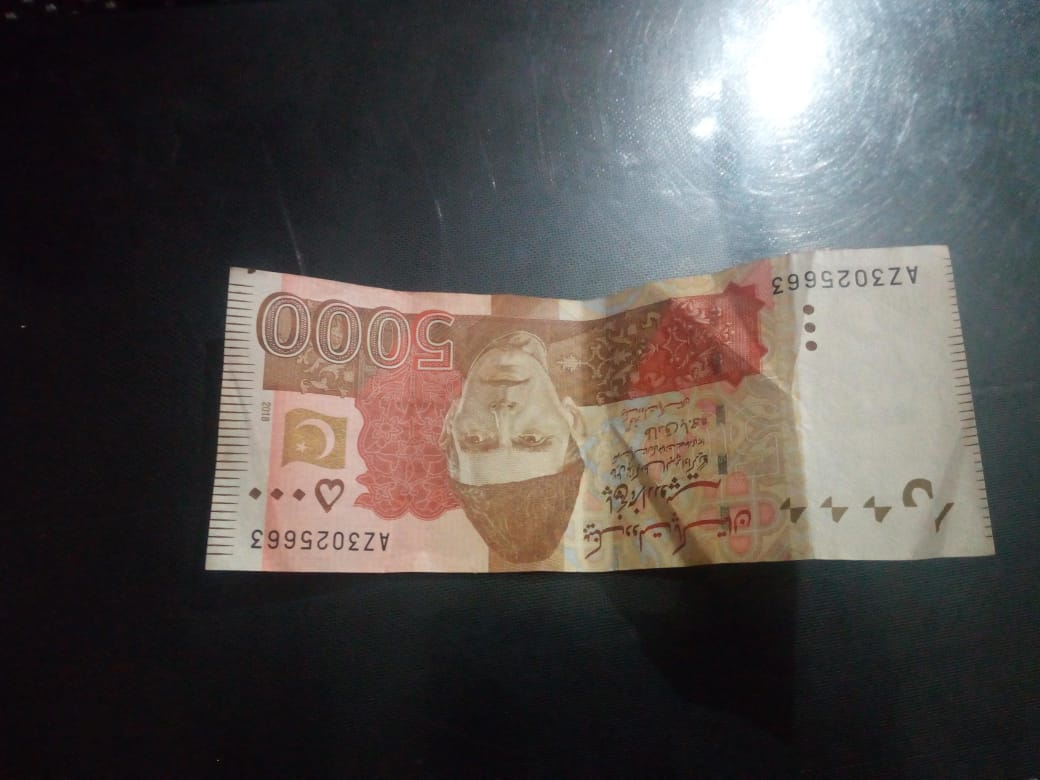5000 rupee: (191, 219, 991, 592)
